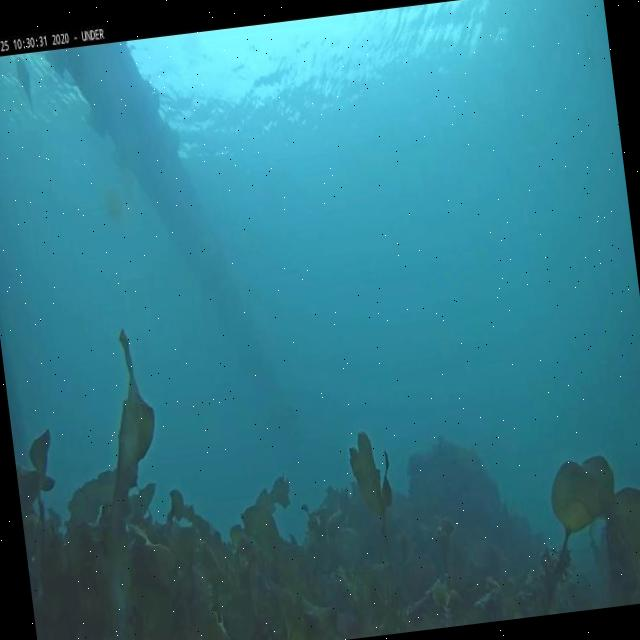fish: (12, 52, 39, 120)
